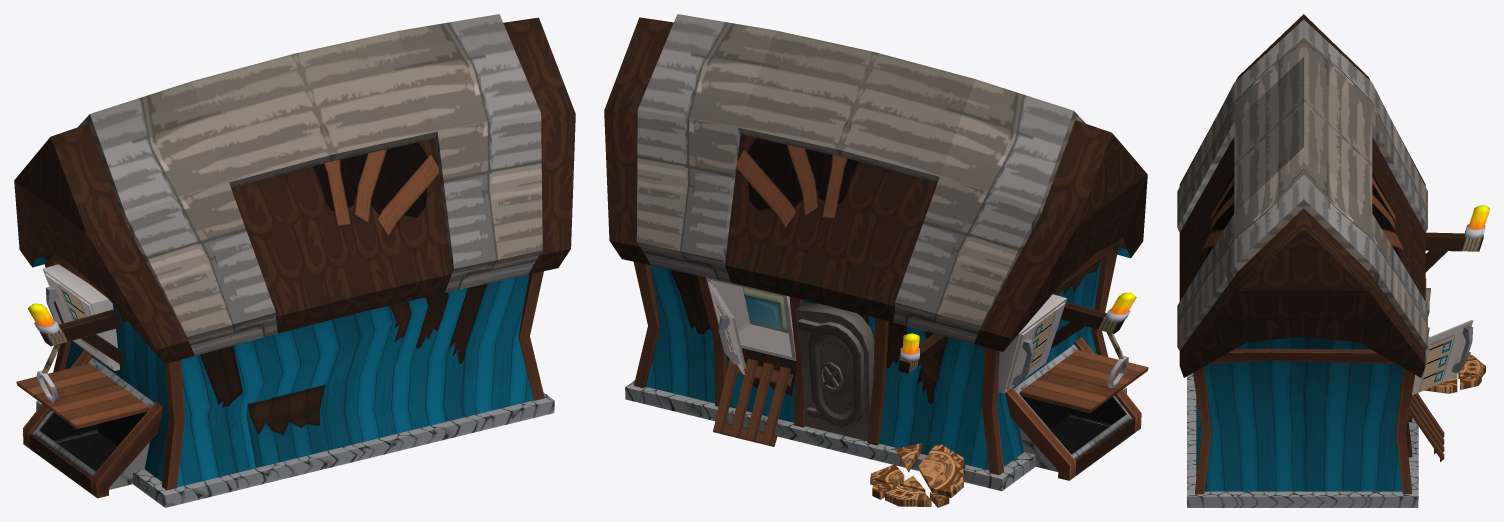
The model's file is playerhouse_lvl_1.FBX.
3 views of the same model, side by side, from view 1: azimuth 30°, elevation 25°; view 2: azimuth 150°, elevation 25°; view 3: azimuth 270°, elevation 25° (orthographic). The views are drawn at different scales.
Visible parts, largest first — view 1: main_hus010; view 2: main_hus010; view 3: main_hus010.
Boxes of the visible parts, x1,y1,x2,y2 form: main_hus010: (14,14,575,507); main_hus010: (604,14,1148,507); main_hus010: (1177,14,1489,507).
Bounding box in the file's own units: 375 × 256 × 221.
Materials: 1 (1 with a texture image).
